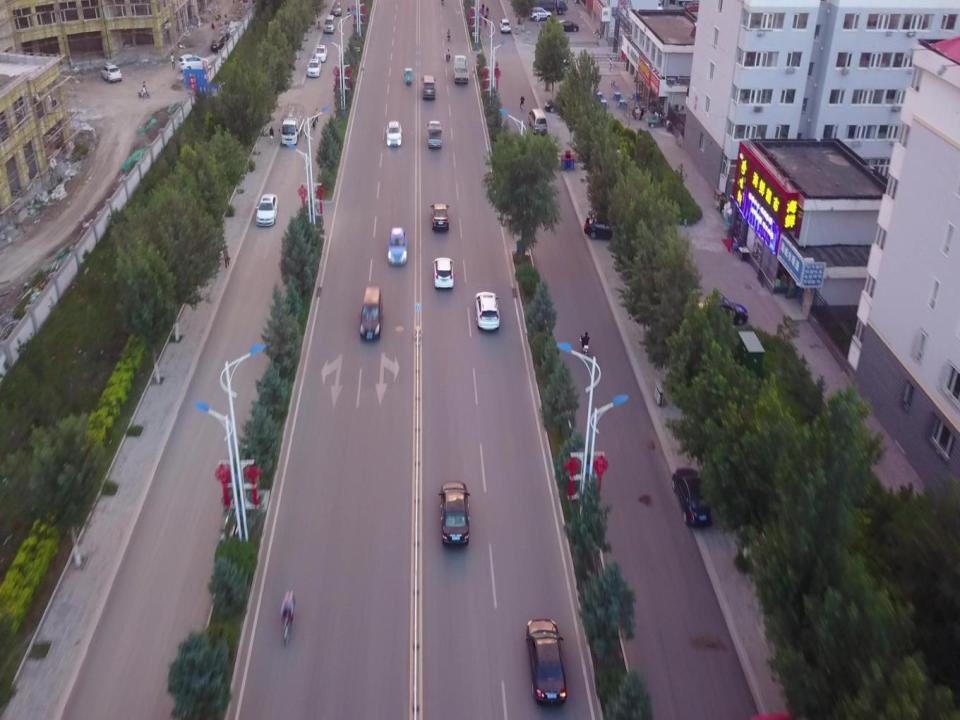car: (526, 619, 566, 705), (672, 468, 714, 528), (439, 480, 471, 547), (704, 294, 748, 326), (584, 215, 621, 241), (476, 291, 500, 329), (256, 192, 278, 227), (433, 257, 455, 290), (388, 228, 406, 265), (430, 202, 450, 230), (178, 54, 208, 72), (544, 96, 570, 113), (100, 63, 122, 83), (386, 120, 402, 146), (554, 19, 579, 32), (306, 59, 322, 77), (529, 8, 552, 20), (314, 45, 327, 62), (211, 35, 225, 50), (499, 18, 511, 33), (331, 3, 342, 16)
truck: (280, 104, 304, 144), (526, 0, 567, 16), (452, 54, 468, 82), (427, 121, 442, 148)
van: (360, 285, 384, 342), (528, 108, 547, 135), (422, 74, 436, 101), (324, 14, 335, 34)
